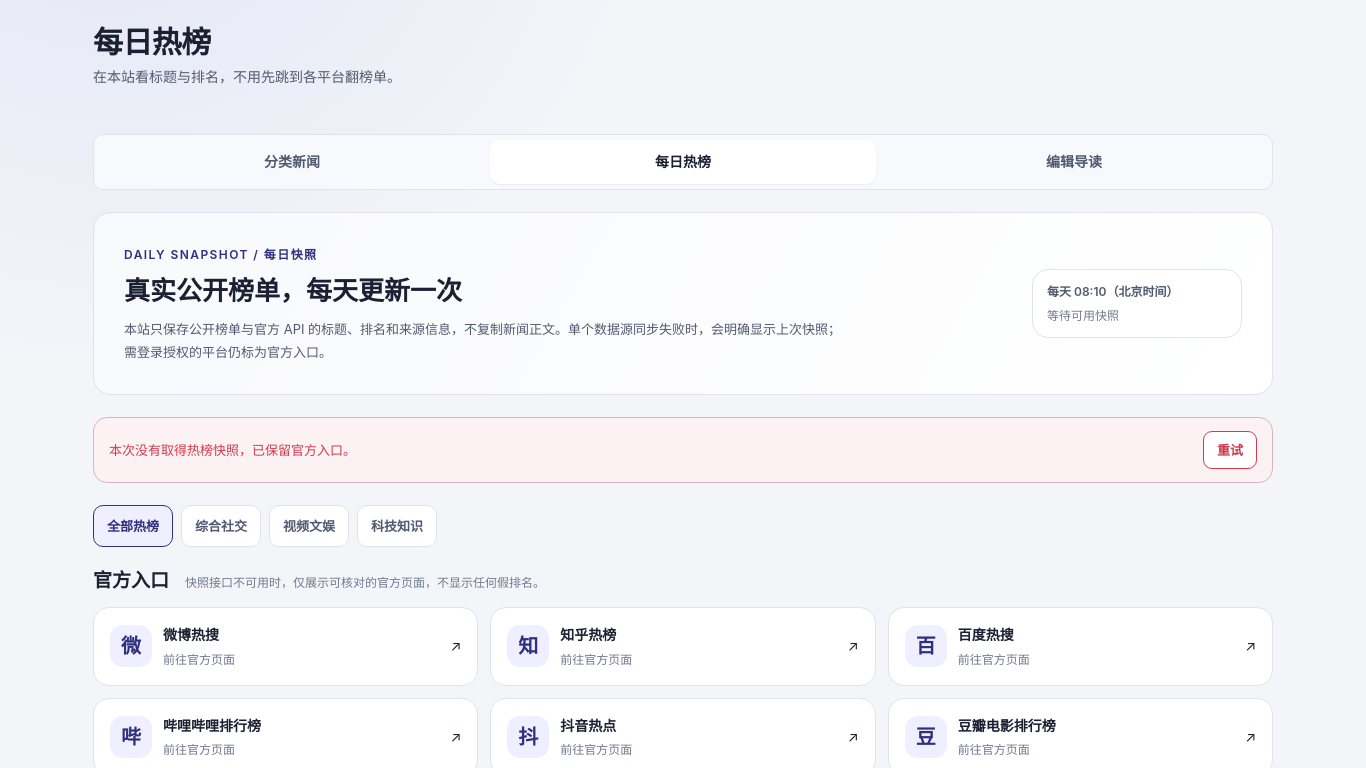
Test case: community news public pages › shows only official fallback links after a fetch error and retries without fake rows
Expected: the message shows "本次没有取得热榜快照", [109,442,356,458]
Click the button "重试": [1230, 450] box [1203,432,1257,470]
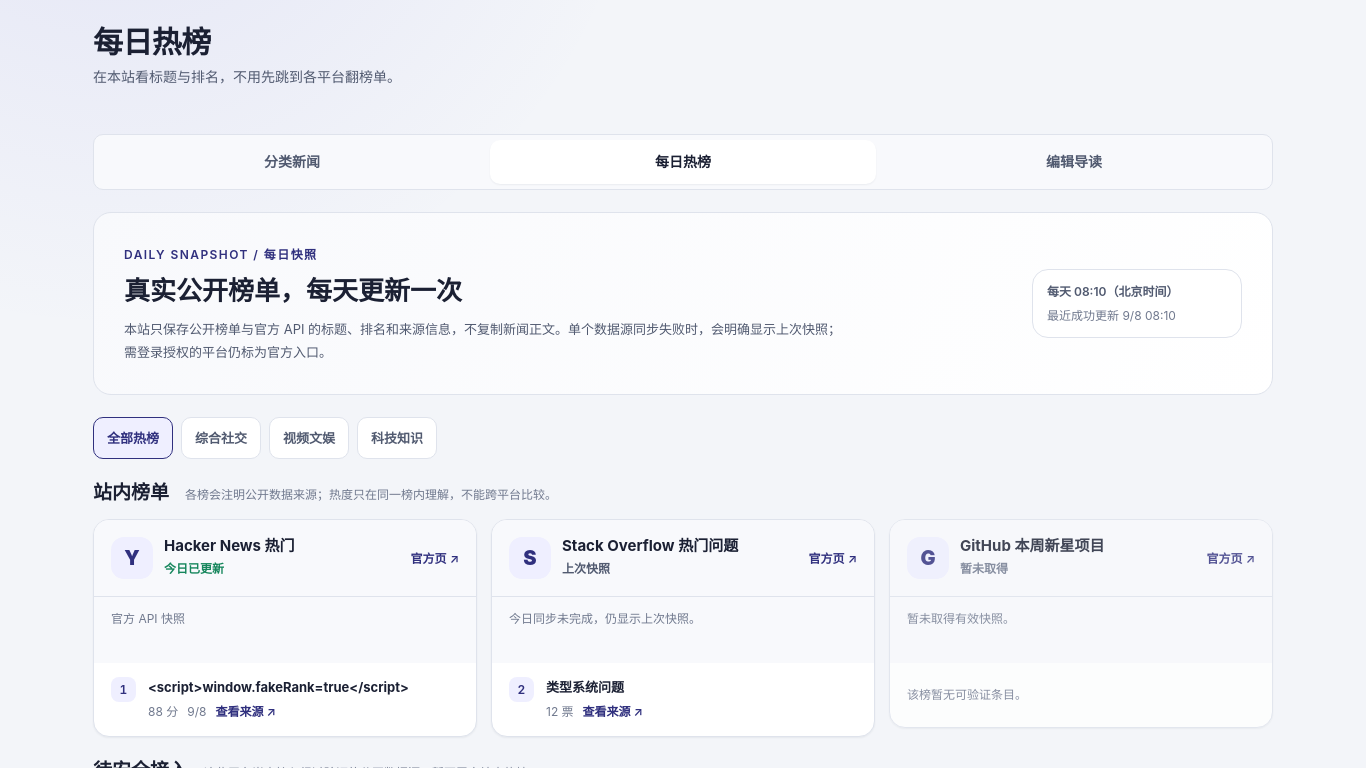
Expected: the list named "Hacker News 热门每日排名" is shown, [111,677,409,719]
Expected: the message "本次没有取得热榜快照，已保留官方入口。 重试" is gone
